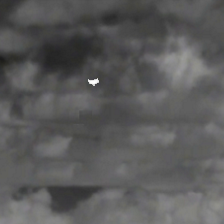Target: (87, 77, 99, 87)
